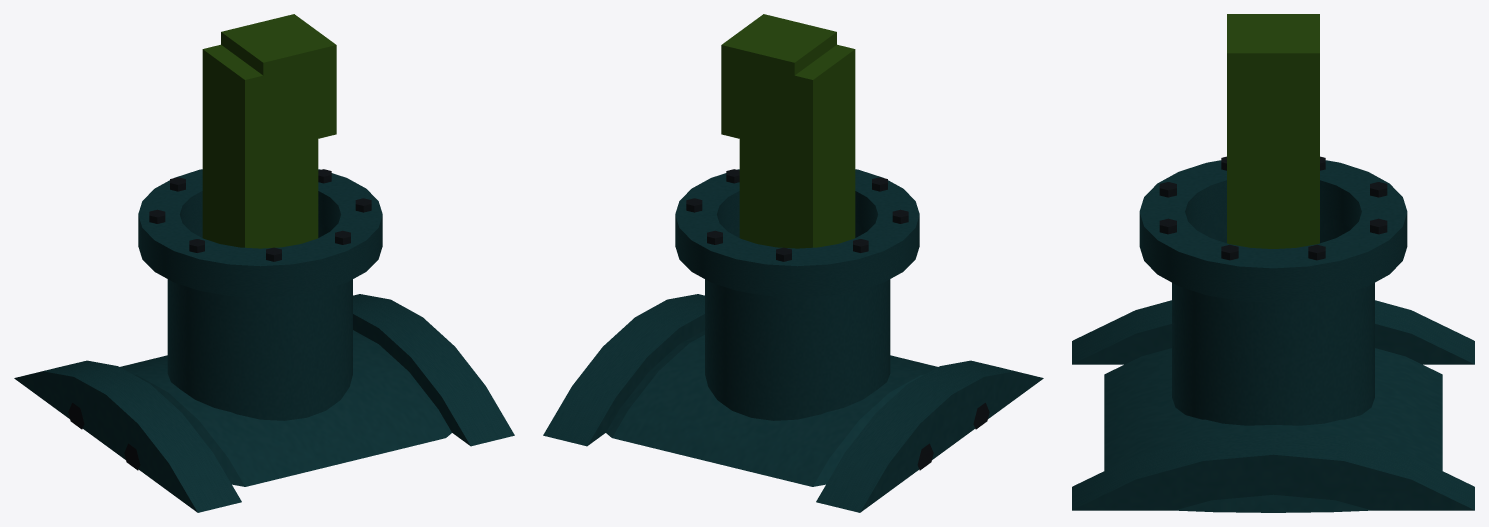
Rendered from cell_43.obj.
3 views of the same model, side by side, from view 1: azimuth 30°, elevation 25°; view 2: azimuth 150°, elevation 25°; view 3: azimuth 270°, elevation 25° (orthographic). The views are drawn at different scales.
Visible parts, largest first — view 1: cell_43; view 2: cell_43; view 3: cell_43.
Part boxes in pixels (x1=…): cell_43: x1=14, y1=14, x2=514, y2=512; cell_43: x1=543, y1=14, x2=1043, y2=512; cell_43: x1=1072, y1=14, x2=1474, y2=512.
Bounding box in the file's own units: 0.9259 × 1 × 0.9128.
